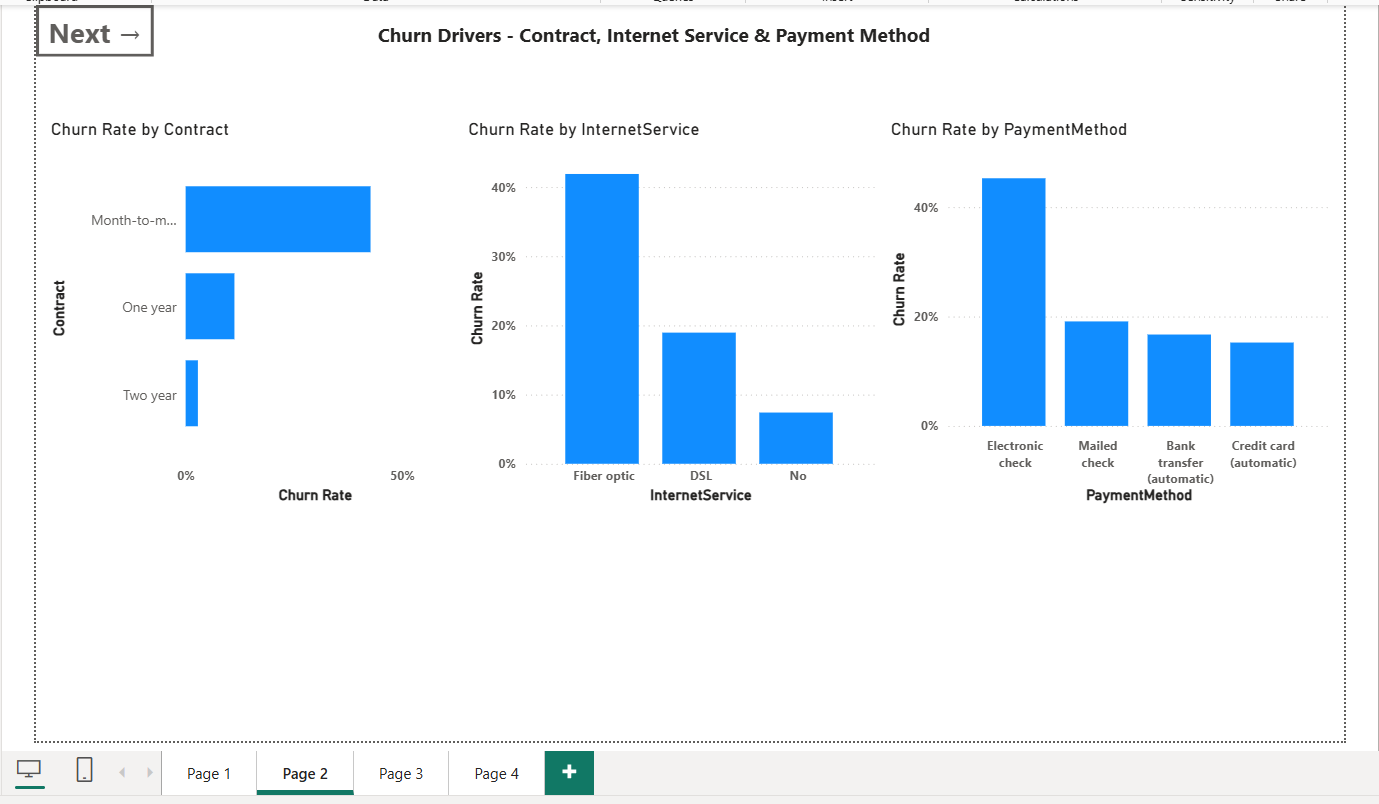

What the dashboard file says about the page in this screenshot:
{"tool":"powerbi","page":{"name":"Page 2","canvas":[1280,720],"ordinal":1},"visuals":[{"type":"clusteredBarChart","fields":{"Y":["Telco-Customer-Churn - WA_Fn-UseC_-Telco-Customer-Churn.Churn Rate"],"Category":["Telco-Customer-Churn - WA_Fn-UseC_-Telco-Customer-Churn.Contract"]},"box":[9.6,111.1,408.9,381.5],"z":0},{"type":"clusteredColumnChart","fields":{"Category":["Telco-Customer-Churn - WA_Fn-UseC_-Telco-Customer-Churn.InternetService"],"Y":["Telco-Customer-Churn - WA_Fn-UseC_-Telco-Customer-Churn.Churn Rate"]},"box":[418.2,111.3,408.4,381.5],"z":1000},{"type":"clusteredColumnChart","fields":{"Category":["Telco-Customer-Churn - WA_Fn-UseC_-Telco-Customer-Churn.PaymentMethod"],"Y":["Telco-Customer-Churn - WA_Fn-UseC_-Telco-Customer-Churn.Churn Rate"]},"box":[831.6,111.1,439.1,381.5],"z":2000},{"type":"actionButton","box":[0,0,115.3,50.8],"z":3000},{"type":"textbox","box":[281.3,11,646.9,57.5],"z":4000}]}

Visuals, with their boxes on the page's 1280x720 design canvas (x1, y1, x2, y2). These are canvas units, not pixel positions in the 1379x804 screenshot, which may show the page scaled, cropped or inside an application window:
clusteredBarChart - Telco-Customer-Churn - WA_Fn-UseC_-Telco-Customer-Churn.Churn Rate x Telco-Customer-Churn - WA_Fn-UseC_-Telco-Customer-Churn.Contract: left=10, top=111, right=418, bottom=493
clusteredColumnChart - Telco-Customer-Churn - WA_Fn-UseC_-Telco-Customer-Churn.InternetService x Telco-Customer-Churn - WA_Fn-UseC_-Telco-Customer-Churn.Churn Rate: left=418, top=111, right=827, bottom=493
clusteredColumnChart - Telco-Customer-Churn - WA_Fn-UseC_-Telco-Customer-Churn.PaymentMethod x Telco-Customer-Churn - WA_Fn-UseC_-Telco-Customer-Churn.Churn Rate: left=832, top=111, right=1271, bottom=493
actionButton: left=0, top=0, right=115, bottom=51
textbox: left=281, top=11, right=928, bottom=68
